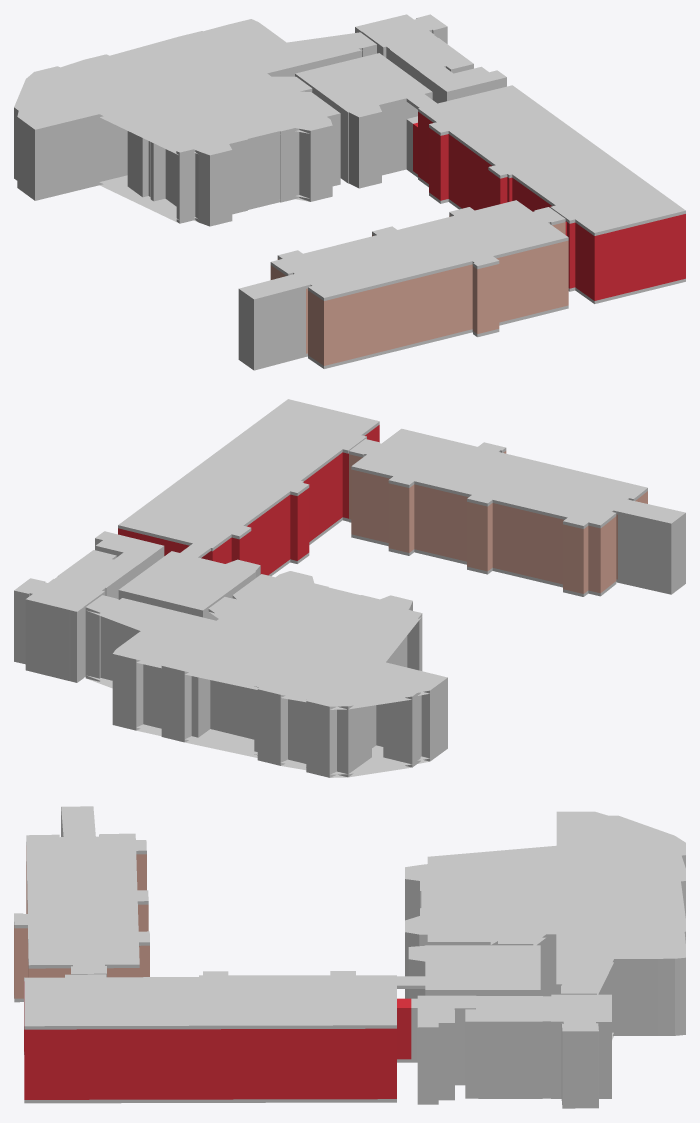
The model's file is 3D_Granet.fbx.
3 views of the same model, one above another, from view 1: azimuth 30°, elevation 25°; view 2: azimuth 150°, elevation 25°; view 3: azimuth 270°, elevation 25° (orthographic). The views are drawn at different scales.
Visible parts, largest first — view 1: Plafond HALL, HALL, SALLE D'EXPOSITION 2, Plafond SALLE D'EXPOSITION 3, Plafond SALLE D'EXPOSITION 2, SALLE D'EXPOSITION 3, Plafond SALLE D'EXPOSITION 1, SALLE D'EXPOSITION 1, ESCALIER 1, HALL.001, Plafond ESCALIER 1, SALLE D'EXPOSITION 2.001 (+1 smaller); view 2: Plafond HALL, HALL, SALLE D'EXPOSITION 2, Plafond SALLE D'EXPOSITION 3, Plafond SALLE D'EXPOSITION 2, SALLE D'EXPOSITION 3, Plafond SALLE D'EXPOSITION 1, ESCALIER 1, HALL.001, Plafond ESCALIER 1, SALLE D'EXPOSITION 2.001, SALLE D'EXPOSITION 1; view 3: Plafond HALL, SALLE D'EXPOSITION 3, HALL, Plafond SALLE D'EXPOSITION 3, Plafond SALLE D'EXPOSITION 2, Plafond SALLE D'EXPOSITION 1, SALLE D'EXPOSITION 2, SALLE D'EXPOSITION 3.001, SALLE D'EXPOSITION 1, HALL.001, Plafond ESCALIER 1.
Part boxes in pixels (left/top/right/bottom): Plafond HALL: left=14, top=14, right=506, bottom=158; HALL: left=14, top=30, right=506, bottom=223; SALLE D'EXPOSITION 2: left=270, top=215, right=568, bottom=365; Plafond SALLE D'EXPOSITION 3: left=413, top=85, right=685, bottom=235; Plafond SALLE D'EXPOSITION 2: left=270, top=200, right=568, bottom=300; SALLE D'EXPOSITION 3: left=413, top=112, right=685, bottom=300; Plafond SALLE D'EXPOSITION 1: left=295, top=53, right=432, bottom=120; SALLE D'EXPOSITION 1: left=312, top=89, right=432, bottom=185; ESCALIER 1: left=238, top=289, right=305, bottom=367; HALL.001: left=14, top=175, right=340, bottom=226; Plafond ESCALIER 1: left=238, top=274, right=308, bottom=302; SALLE D'EXPOSITION 2.001: left=306, top=305, right=568, bottom=368; Plafond HALL: left=14, top=531, right=447, bottom=709; HALL: left=14, top=541, right=447, bottom=774; SALLE D'EXPOSITION 2: left=349, top=451, right=647, bottom=593; Plafond SALLE D'EXPOSITION 3: left=118, top=399, right=379, bottom=555; Plafond SALLE D'EXPOSITION 2: left=349, top=428, right=647, bottom=528; SALLE D'EXPOSITION 3: left=118, top=425, right=379, bottom=575; Plafond SALLE D'EXPOSITION 1: left=118, top=548, right=260, bottom=613; ESCALIER 1: left=618, top=515, right=685, bottom=591; HALL.001: left=14, top=658, right=447, bottom=777; Plafond ESCALIER 1: left=615, top=500, right=685, bottom=526; SALLE D'EXPOSITION 2.001: left=349, top=519, right=617, bottom=596; SALLE D'EXPOSITION 1: left=118, top=569, right=260, bottom=620; Plafond HALL: left=405, top=811, right=685, bottom=1034; SALLE D'EXPOSITION 3: left=24, top=981, right=411, bottom=1099; HALL: left=405, top=858, right=685, bottom=1105; Plafond SALLE D'EXPOSITION 3: left=24, top=971, right=411, bottom=1029; Plafond SALLE D'EXPOSITION 2: left=14, top=833, right=149, bottom=977; Plafond SALLE D'EXPOSITION 1: left=408, top=945, right=540, bottom=993; SALLE D'EXPOSITION 2: left=14, top=845, right=149, bottom=998; SALLE D'EXPOSITION 3.001: left=24, top=1052, right=411, bottom=1103; SALLE D'EXPOSITION 1: left=408, top=962, right=540, bottom=1059; HALL.001: left=417, top=1031, right=685, bottom=1108; Plafond ESCALIER 1: left=61, top=806, right=95, bottom=836.
Bounding box in the file's own units: 2832 × 453 × 3575.
